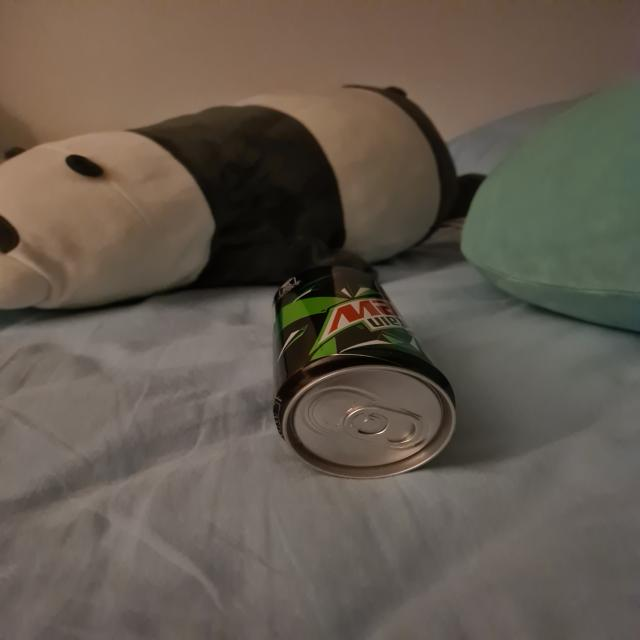non-organic waste: (261, 258, 468, 475)
